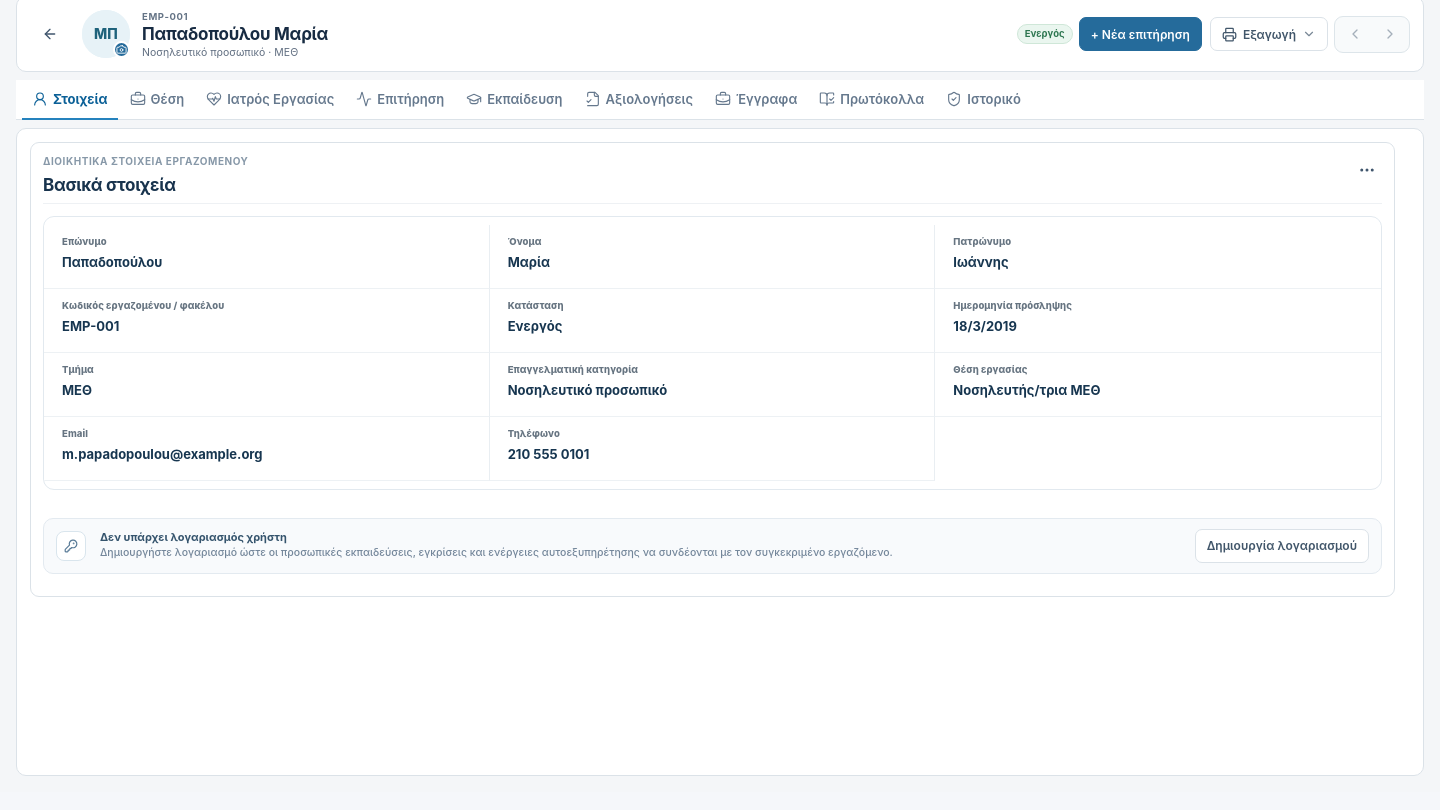
Test: documents and history › lists the audit history as a paged registry with changes and user
This screenshot has width=1440, height=810.
Expected: the tab "Στοιχεία" is shown, [22,80,118,120]
What coordinates should you click on to do the following:
click the tab "Ιστορικό"
I would click on:
 (984, 100)
Its box is [936,80,1031,120].
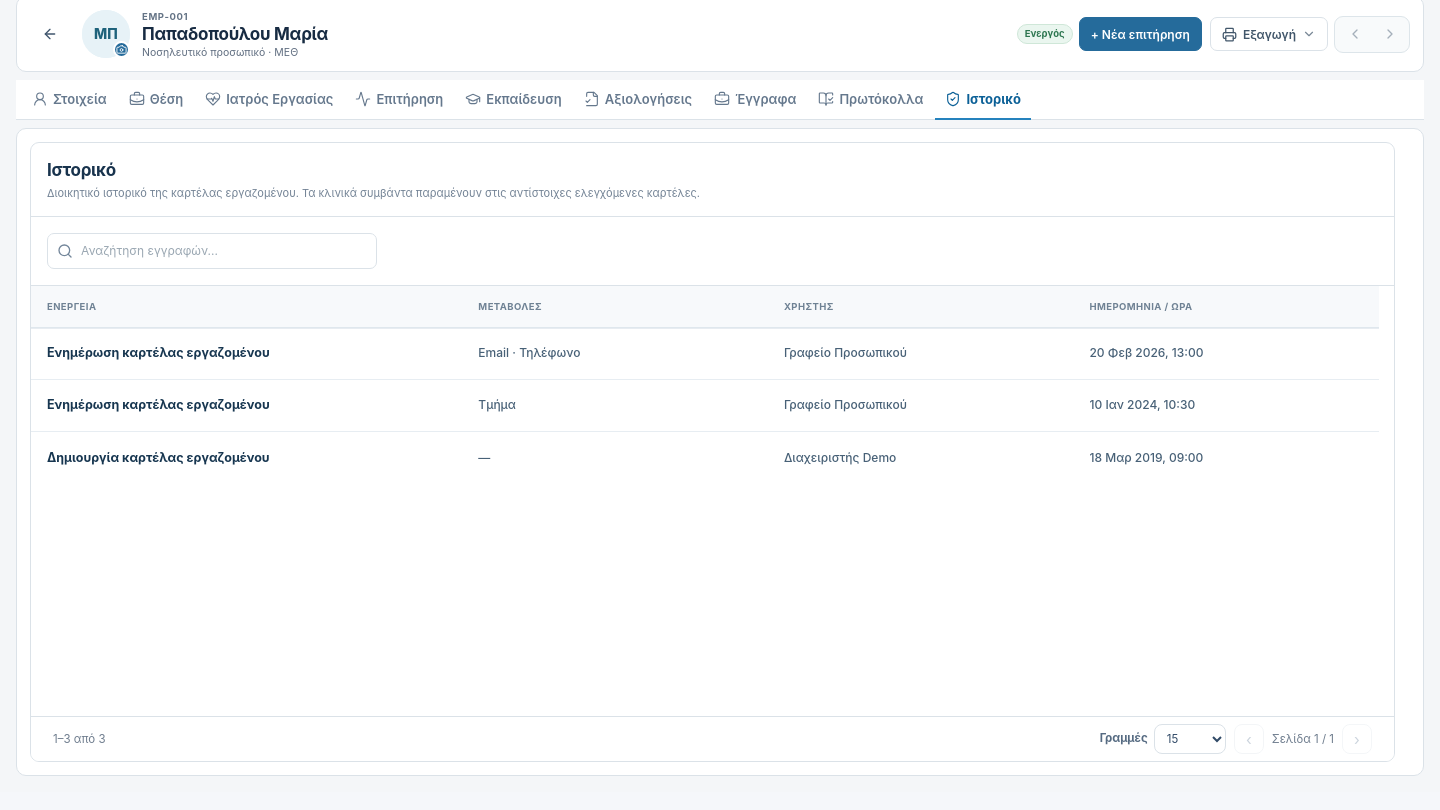
Now the column heading "Μεταβολές" is shown, box [462,286,768,328]
Now the column heading "Χρήστης" is shown, box [768,286,1073,328]
Now the table is shown, box [31,286,1379,484]
